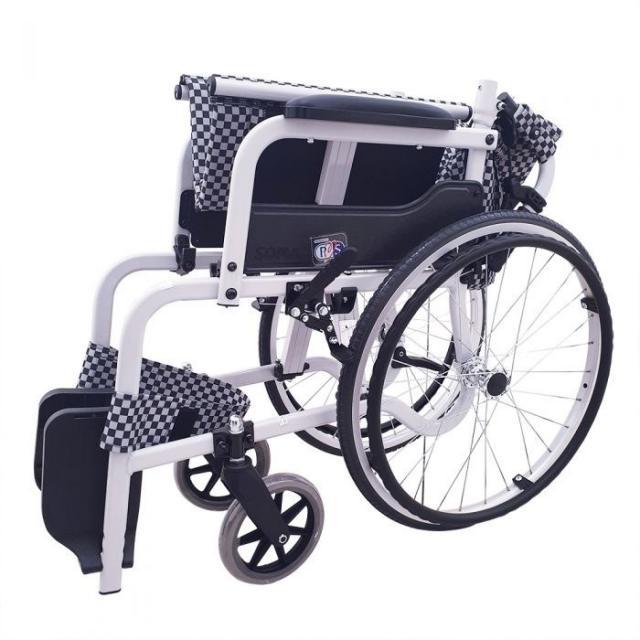wheelchair: (30, 55, 619, 615)
